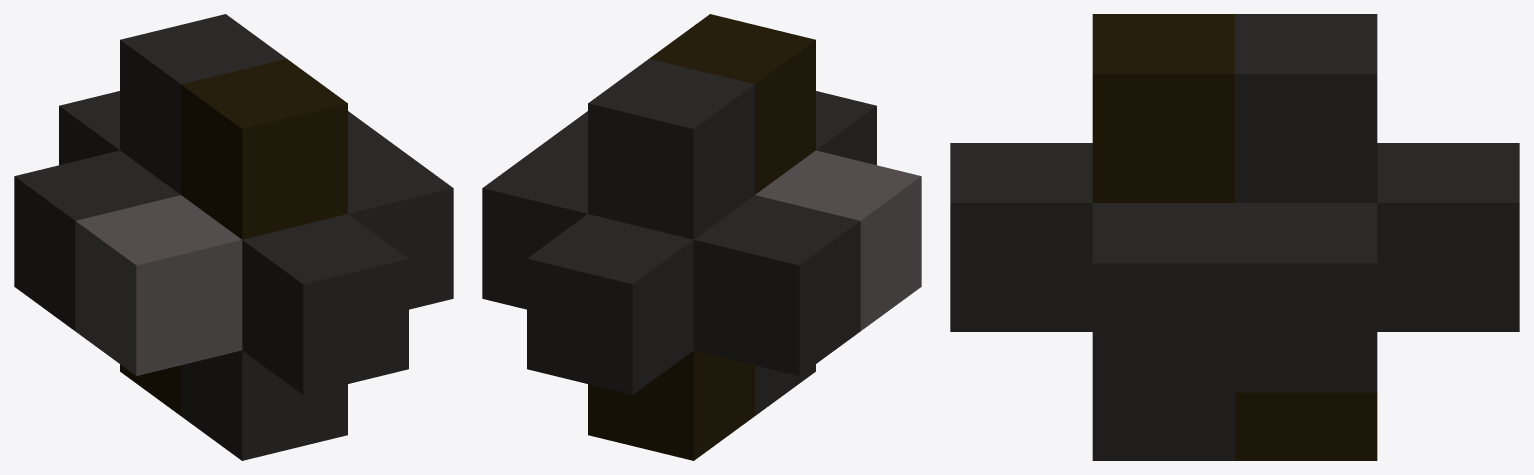
File: default-projectile.glb
3 renders of one model, left to right at view 1: azimuth 30°, elevation 25°; view 2: azimuth 150°, elevation 25°; view 3: azimuth 270°, elevation 25°, orthographic. The views are drawn at different scales.
Parts seen in each view (by area): view 1: Untitled; view 2: Untitled; view 3: Untitled.
Part boxes in pixels (x1,y1,x2,y2): Untitled: [14, 14, 453, 460]; Untitled: [482, 14, 921, 460]; Untitled: [950, 14, 1519, 460].
Bounding box in the file's own units: 0.3 × 0.3 × 0.4.
1 material, 1 textured.
